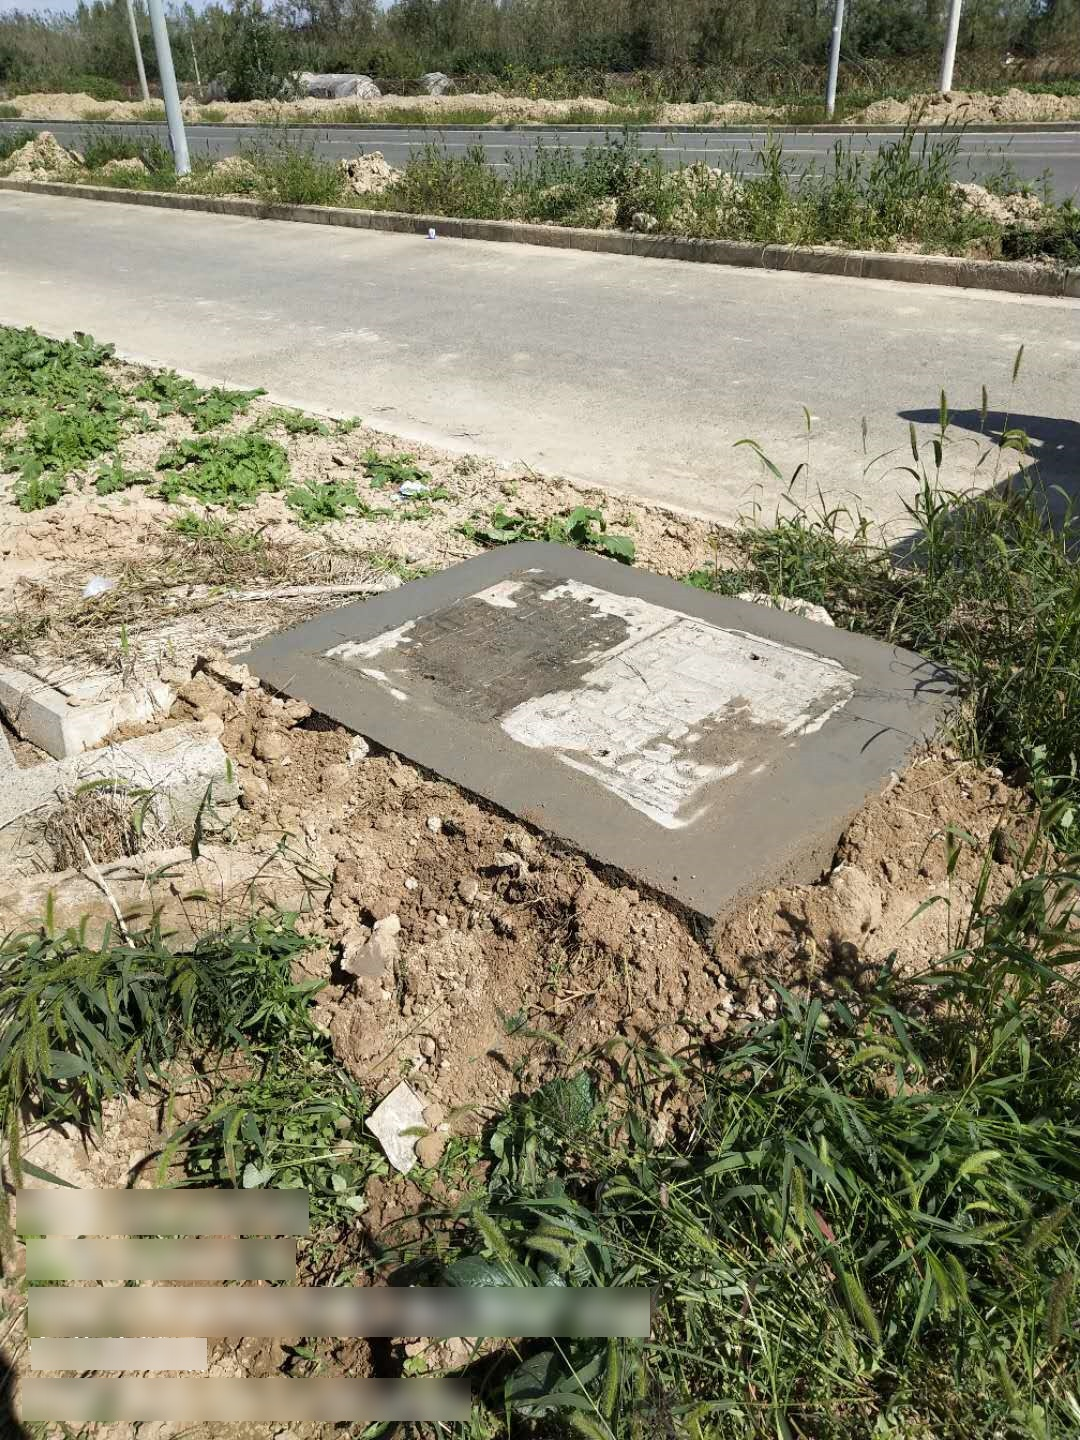good: (305, 562, 874, 844)
